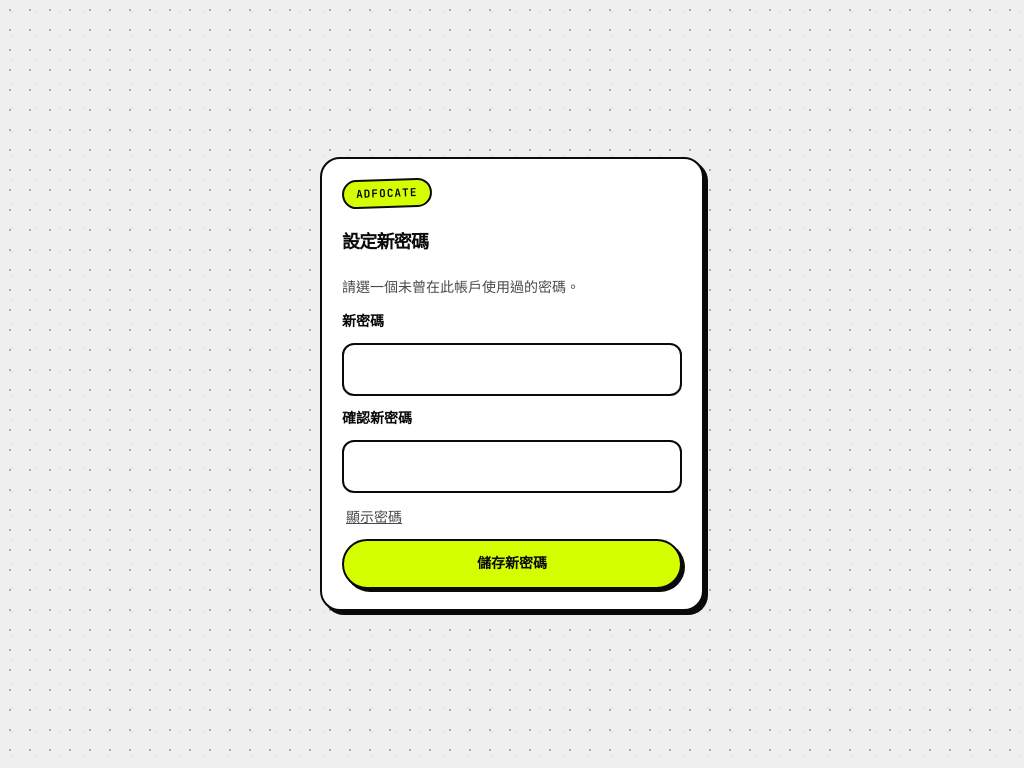
Scenario: Reset password (recovery landing) › saves the new password then runs the shared post-auth branch
The image size is (1024, 768).
Type "brand-new-pass" into the password field labelled "新密碼" at (512,370), box [342,343,682,396]
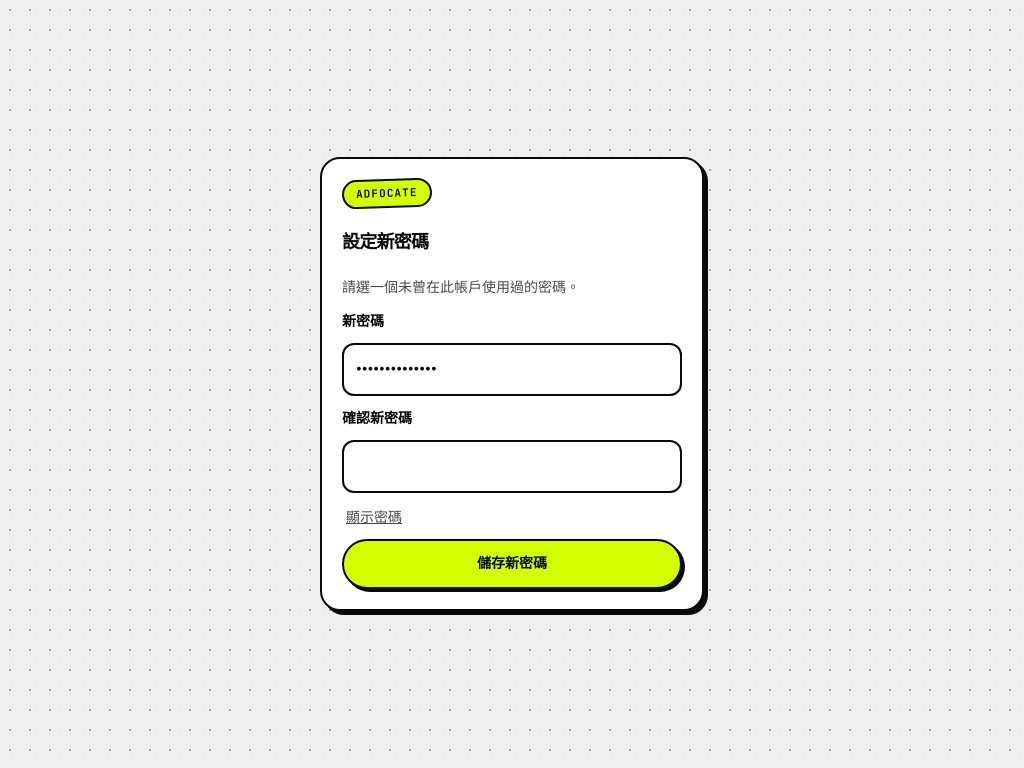
Type "brand-new-pass" into the password field labelled "確認新密碼" at (512,467), box [342,440,682,493]
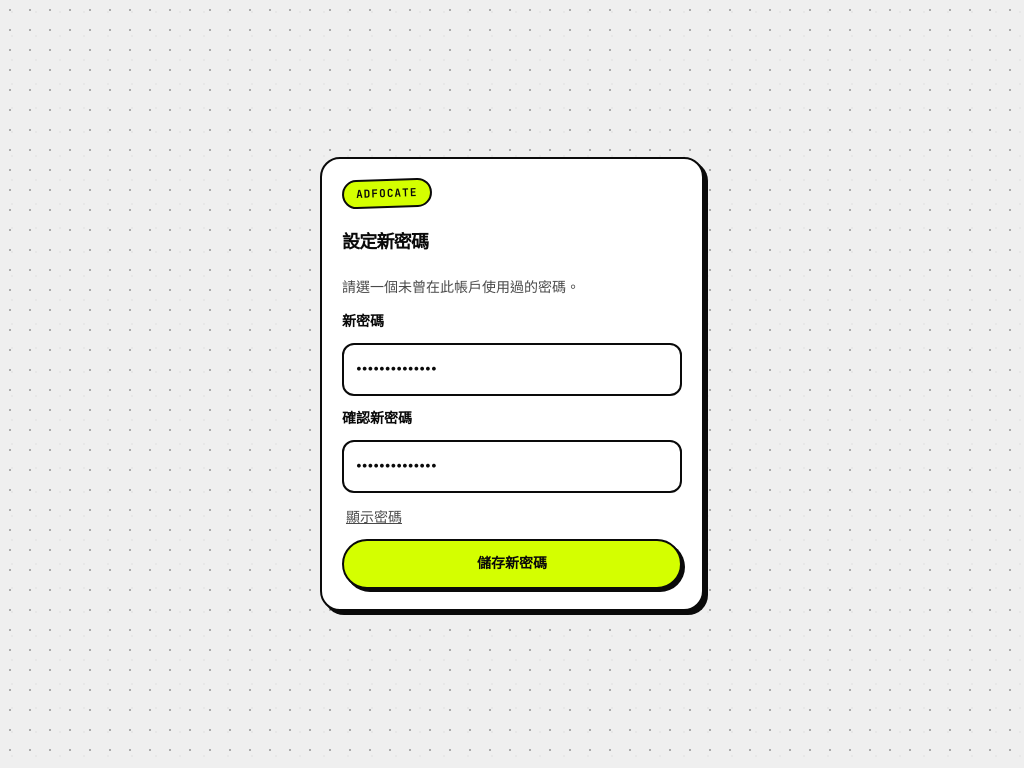
Click the button "儲存新密碼" at (512,564), box [342,539,682,589]
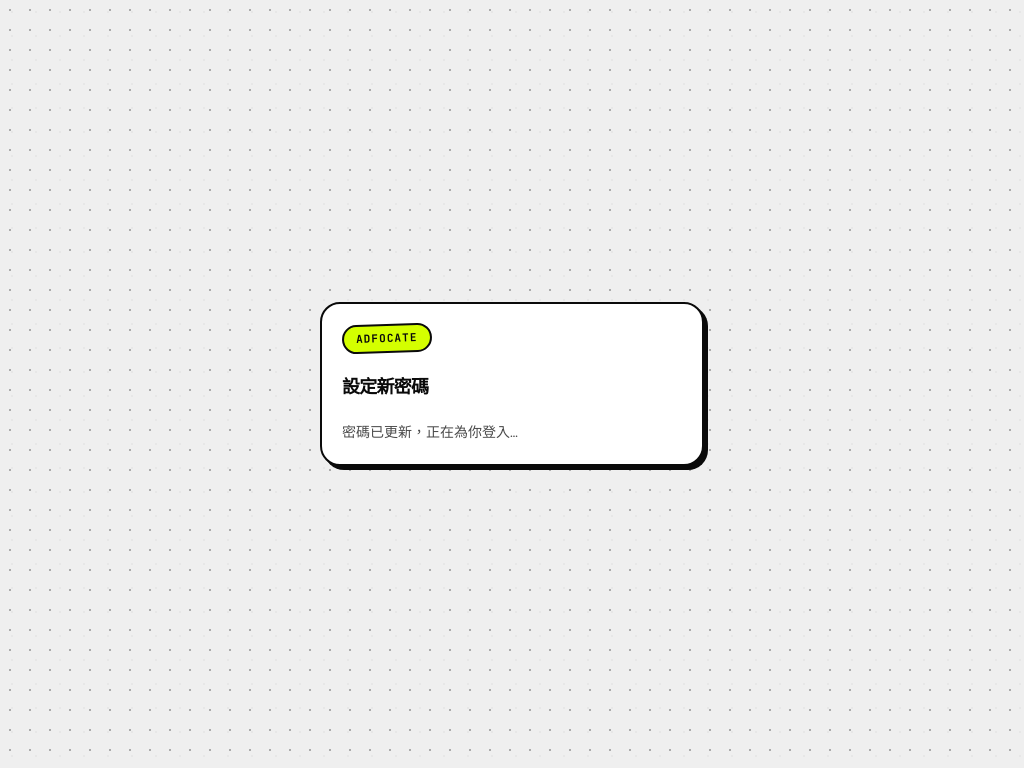
Expected: the text "密碼已更新，正在為你登入…" is shown, [342,423,518,441]
